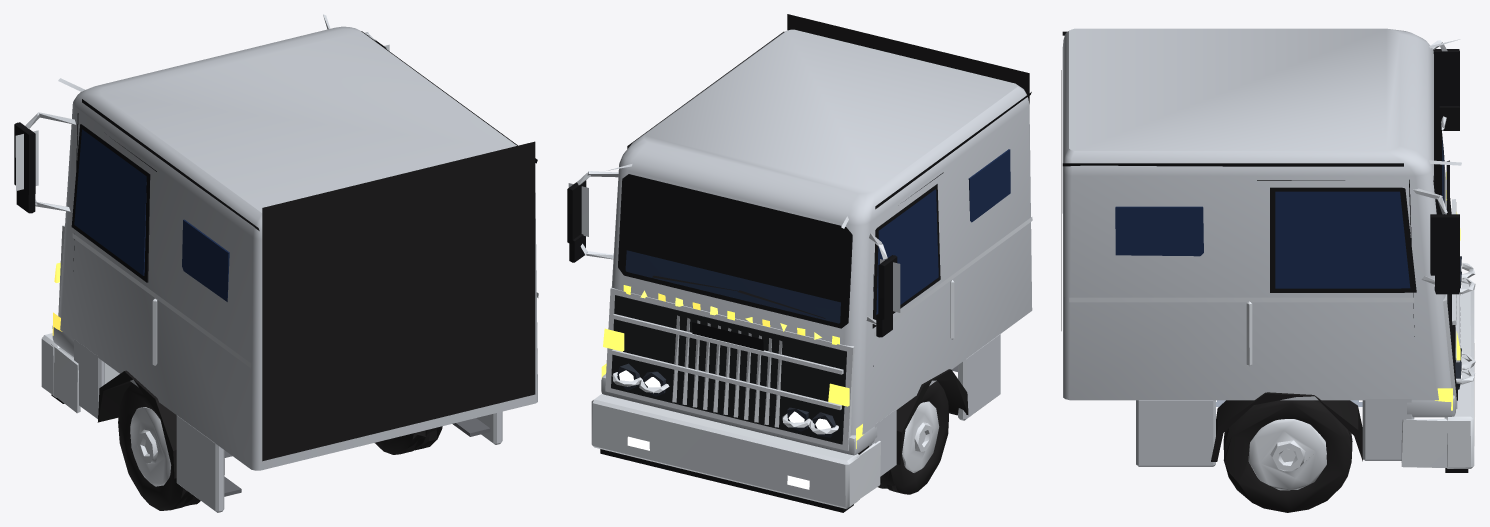
The model's file is cab_flat_quad_lod1.glb.
The picture shows the model from 3 angles, left to right: view 1: azimuth 30°, elevation 25°; view 2: azimuth 150°, elevation 25°; view 3: azimuth 270°, elevation 25°; orthographic projection. The views are drawn at different scales.
Parts seen in each view (by area): view 1: lod1_paint_white_panel, lod1_plastic_trim, lod1_glass, lod1_chrome, lod1_rubber_tire, lod1_plastic_black, lod1_diamond; view 2: lod1_paint_white_panel, lod1_chrome, lod1_plastic_black, lod1_vent_slots, lod1_glass, lod1_plastic_trim, lod1_glass_wind, lod1_rubber_tire, lod1_lamp_amber, lod1_lamp_white, lod1_glass_lens; view 3: lod1_paint_white_panel, lod1_glass, lod1_chrome, lod1_plastic_black, lod1_rubber_tire, lod1_plastic_trim.
Part boxes in pixels (<box>): lod1_paint_white_panel: <box>52,26,537,512</box>; lod1_plastic_trim: <box>97,141,535,478</box>; lod1_glass: <box>74,129,229,301</box>; lod1_chrome: <box>15,14,538,486</box>; lod1_rubber_tire: <box>118,383,442,510</box>; lod1_plastic_black: <box>14,31,537,403</box>; lod1_diamond: <box>224,418,490,496</box>; lod1_paint_white_panel: <box>601,29,1032,476</box>; lod1_chrome: <box>568,164,1032,508</box>; lod1_plastic_black: <box>567,31,1031,512</box>; lod1_vent_slots: <box>611,295,846,444</box>; lod1_glass: <box>876,149,1010,314</box>; lod1_plastic_trim: <box>787,14,1029,464</box>; lod1_glass_wind: <box>625,250,840,323</box>; lod1_rubber_tire: <box>878,381,948,494</box>; lod1_lamp_amber: <box>601,285,863,448</box>; lod1_lamp_white: <box>619,370,830,489</box>; lod1_glass_lens: <box>617,363,835,437</box>; lod1_paint_white_panel: <box>1062,28,1455,466</box>; lod1_glass: <box>1115,191,1410,288</box>; lod1_chrome: <box>1069,39,1475,490</box>; lod1_plastic_black: <box>1062,31,1468,472</box>; lod1_rubber_tire: <box>1223,400,1352,512</box>; lod1_plastic_trim: <box>1061,70,1363,461</box>.
Bounding box in the file's own units: 3.24 × 3.2 × 3.22.
15 materials, 6 textured.
